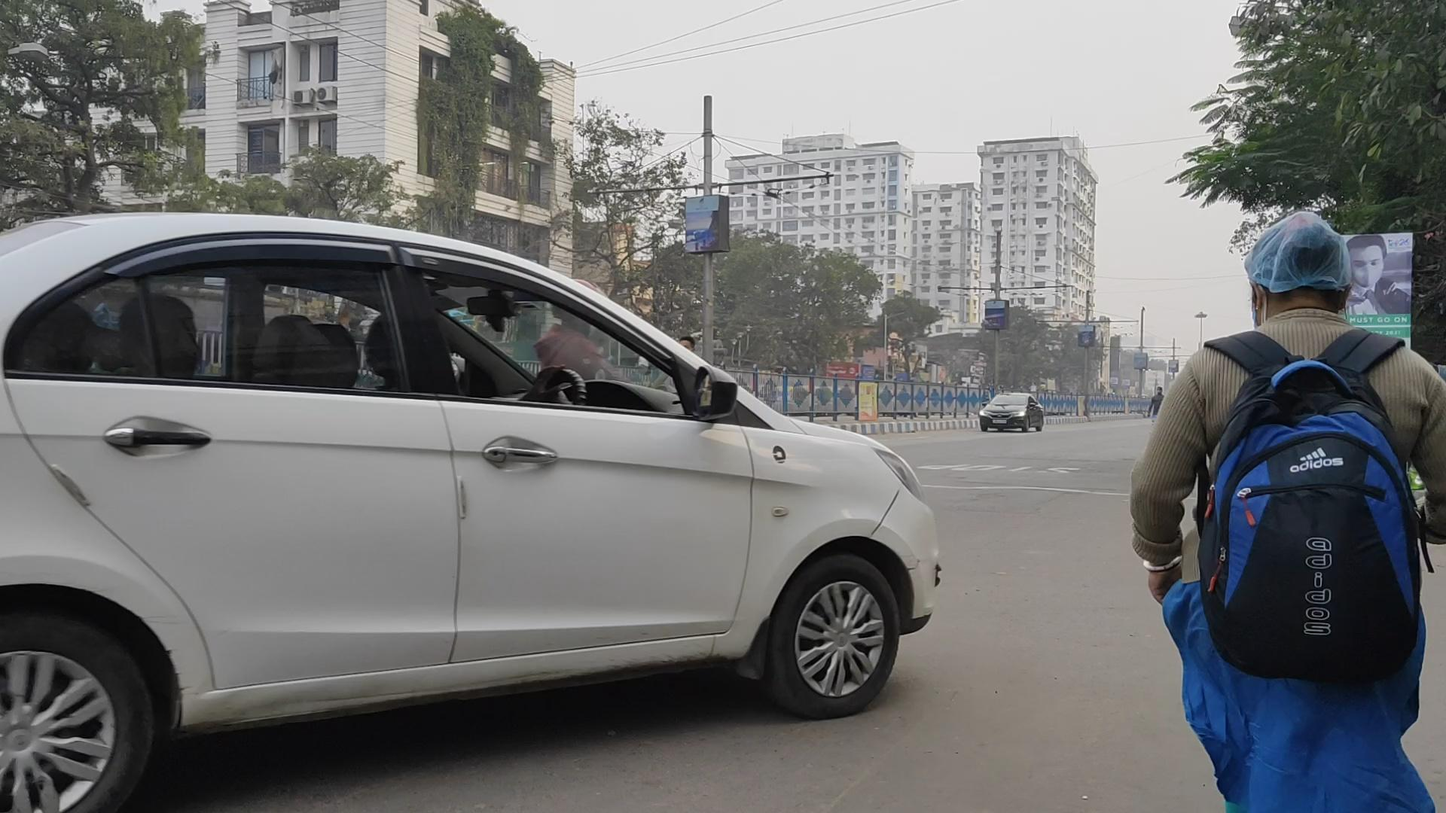car: (2, 209, 941, 813), (978, 390, 1045, 435)
